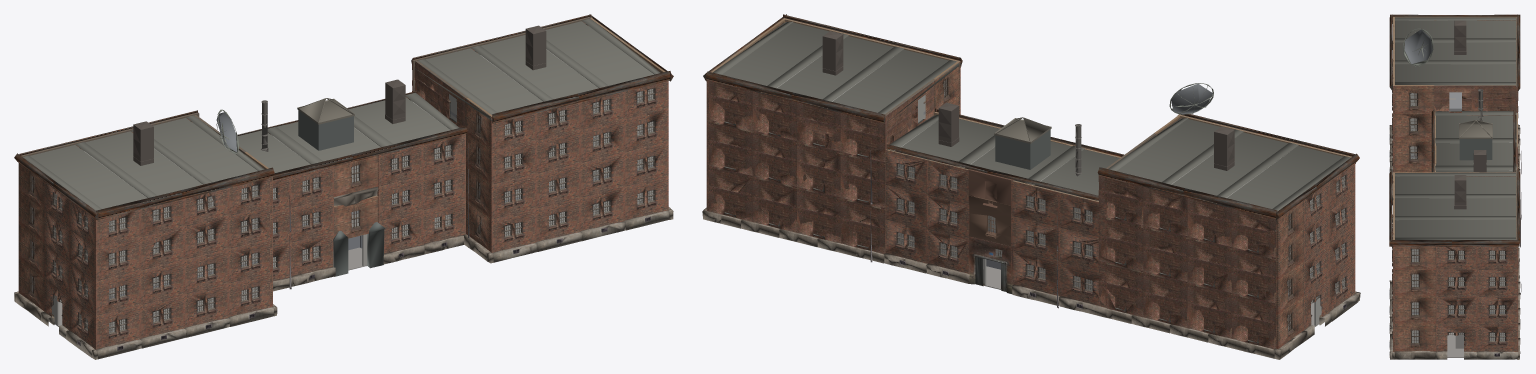
The model's file is prison-block.zfix-v1.lod0.glb.
The picture shows the model from 3 angles, left to right: view 1: azimuth 30°, elevation 25°; view 2: azimuth 150°, elevation 25°; view 3: azimuth 270°, elevation 25°; orthographic projection. The views are drawn at different scales.
Visible parts, largest first — view 1: Jail_Build9_MAT_0, Jail_GLASS_Clear_m_0, Jail_Build7_MAT_0, Jail_grills_mat_0, Jail_Build8_MAT_0, Jail_Build1_MAT_0, Jail_Build4_MAT_0; view 2: Jail_Build1_MAT_0, Jail_GLASS_Clear_m_0, Jail_Build9_MAT_0, Jail_grills_mat_0, Jail_Build4_MAT_0, Jail_Build7_MAT_0, Jail_Build8_MAT_0; view 3: Jail_GLASS_Clear_m_0, Jail_Build9_MAT_0, Jail_Build7_MAT_0, Jail_grills_mat_0, Jail_Build1_MAT_0, Jail_Build8_MAT_0, Jail_Build4_MAT_0.
Boxes of the visible parts, x1,y1,x2,y2 form: Jail_Build9_MAT_0: [44, 17, 668, 349]; Jail_GLASS_Clear_m_0: [23, 18, 660, 332]; Jail_Build7_MAT_0: [18, 54, 665, 310]; Jail_grills_mat_0: [14, 14, 673, 293]; Jail_Build8_MAT_0: [40, 210, 669, 359]; Jail_Build1_MAT_0: [21, 17, 590, 156]; Jail_Build4_MAT_0: [14, 207, 673, 359]; Jail_Build1_MAT_0: [709, 79, 1276, 349]; Jail_GLASS_Clear_m_0: [713, 21, 1350, 330]; Jail_Build9_MAT_0: [706, 18, 1355, 330]; Jail_grills_mat_0: [703, 14, 1359, 331]; Jail_Build4_MAT_0: [702, 210, 1360, 359]; Jail_Build7_MAT_0: [758, 19, 1303, 348]; Jail_Build8_MAT_0: [703, 207, 1357, 339]; Jail_GLASS_Clear_m_0: [1392, 17, 1521, 357]; Jail_Build9_MAT_0: [1392, 16, 1518, 351]; Jail_Build7_MAT_0: [1395, 16, 1516, 351]; Jail_grills_mat_0: [1389, 14, 1520, 343]; Jail_Build1_MAT_0: [1434, 17, 1518, 239]; Jail_Build8_MAT_0: [1389, 126, 1517, 359]; Jail_Build4_MAT_0: [1389, 124, 1520, 359].
Bounding box in the file's own units: 51.79 × 17.11 × 12.72.
Materials: 8 (7 with a texture image).
